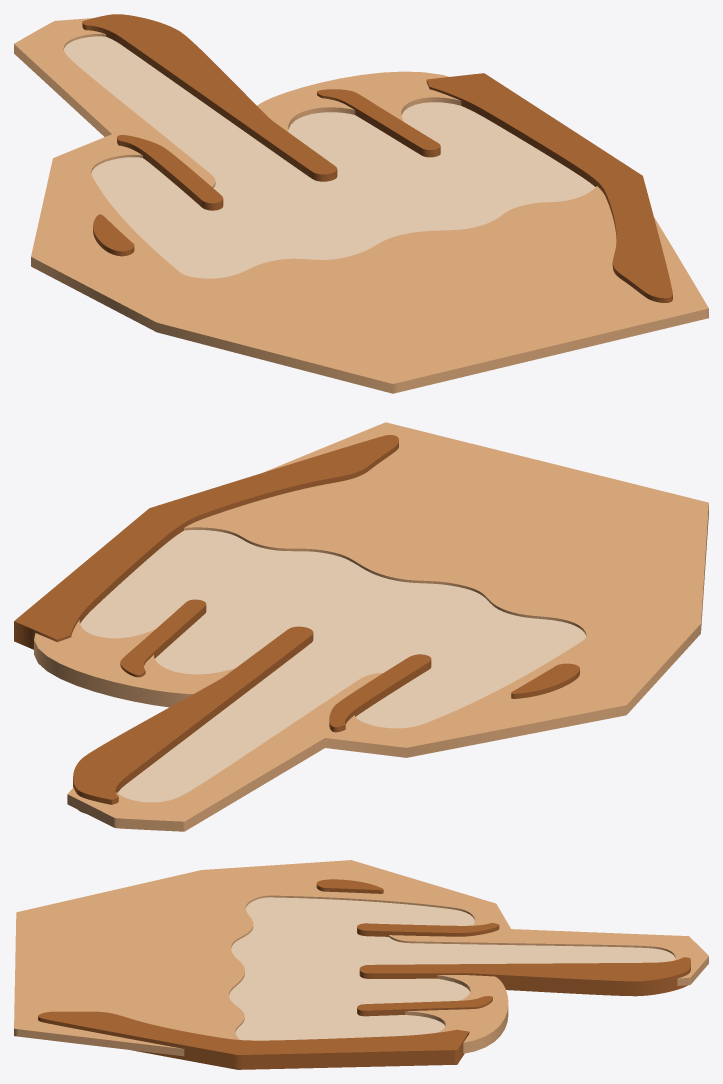
The model's file is emoji_u1f595_1f3fb.glb.
The picture shows the model from 3 angles, top to bottom: view 1: azimuth 30°, elevation 25°; view 2: azimuth 150°, elevation 25°; view 3: azimuth 270°, elevation 25°; orthographic projection. The views are drawn at different scales.
Visible parts, largest first — view 1: emoji_u1f595_1f3fb; view 2: emoji_u1f595_1f3fb; view 3: emoji_u1f595_1f3fb.
Boxes of the visible parts, <box> form: emoji_u1f595_1f3fb: <box>14,14,708,393</box>; emoji_u1f595_1f3fb: <box>14,422,708,831</box>; emoji_u1f595_1f3fb: <box>14,860,708,1069</box>.
Bounding box in the file's own units: 0.0231 × 0.0008 × 0.0341.
